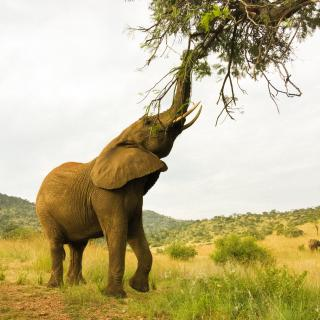Elephant: (28, 44, 222, 314)
